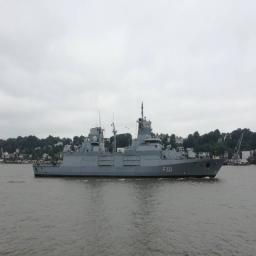Fragata: (32, 97, 230, 183)
